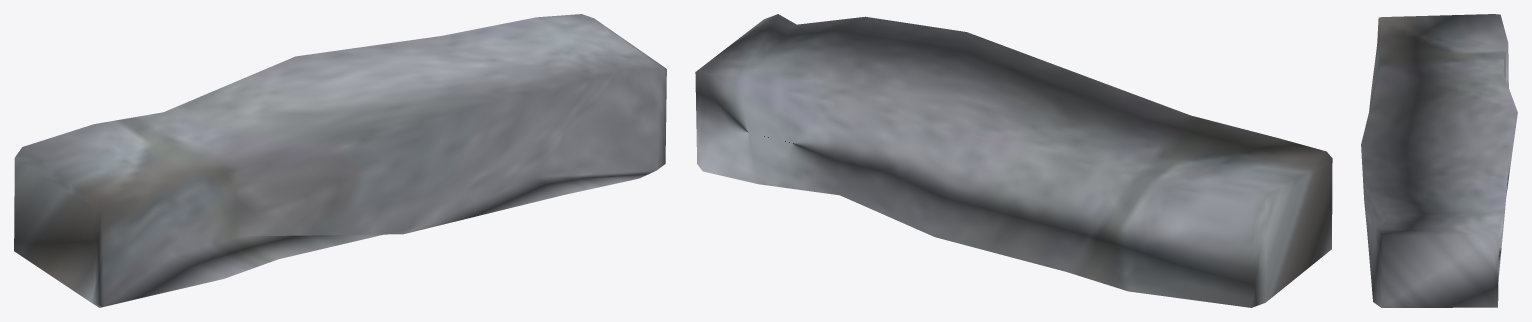
The model's file is stoneB_lr.obj.
3 views of the same model, side by side, from view 1: azimuth 30°, elevation 25°; view 2: azimuth 150°, elevation 25°; view 3: azimuth 270°, elevation 25° (orthographic). The views are drawn at different scales.
Bounding box in the file's own units: 1.99 × 0.4272 × 0.5954.
Materials: 1 (1 with a texture image).
